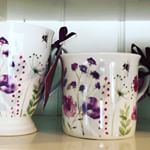cups: (57, 50, 150, 141)
